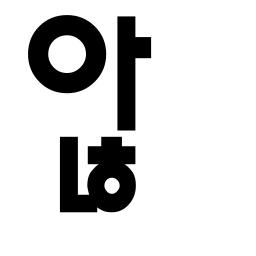Gaji: (111, 26, 144, 68)
